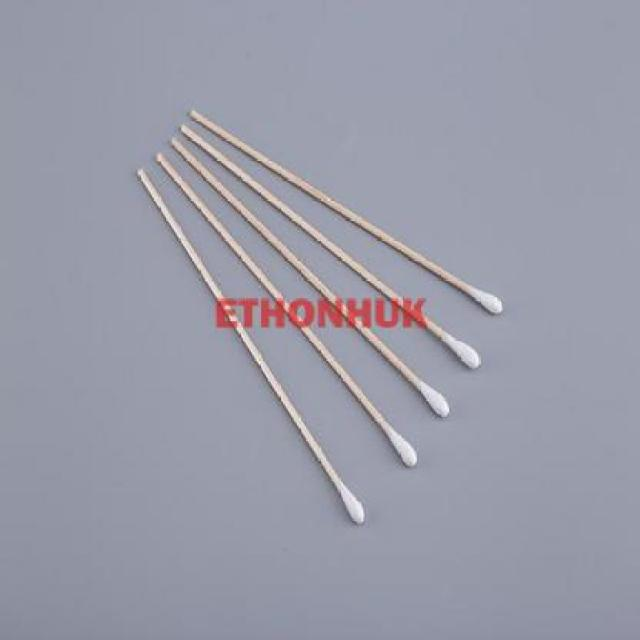B3: (130, 90, 507, 532)
